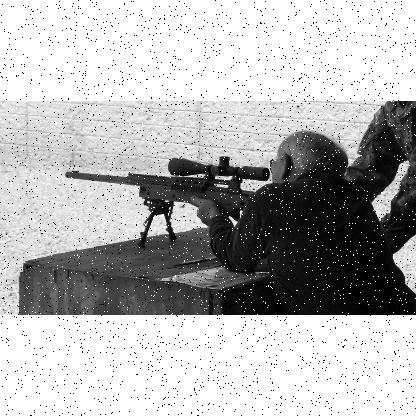gun: (66, 156, 270, 245)
